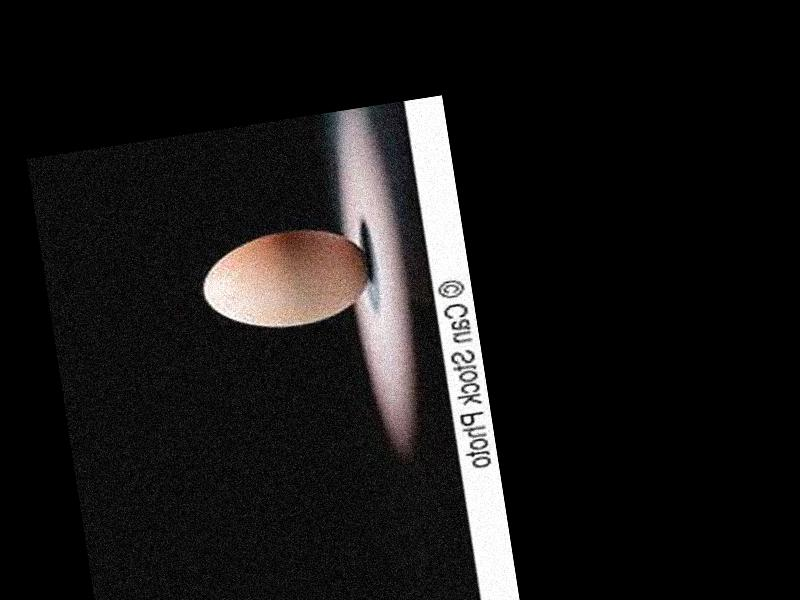Eggs: (197, 217, 377, 338)
